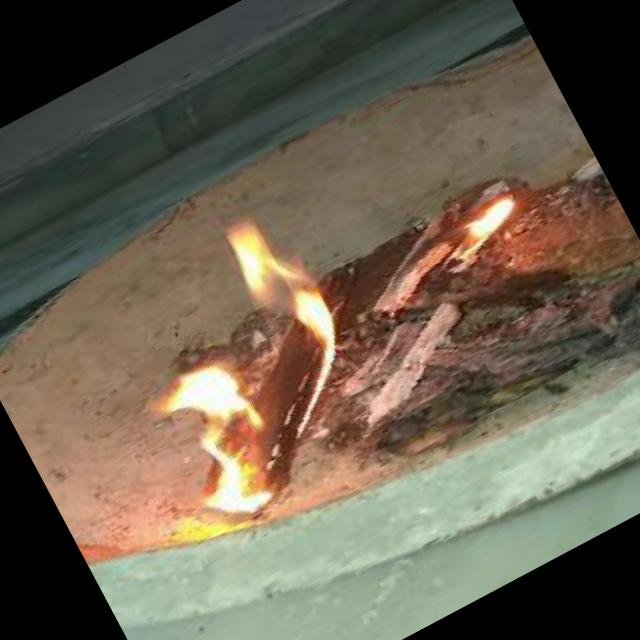fire: (76, 194, 413, 549), (388, 152, 546, 294)
